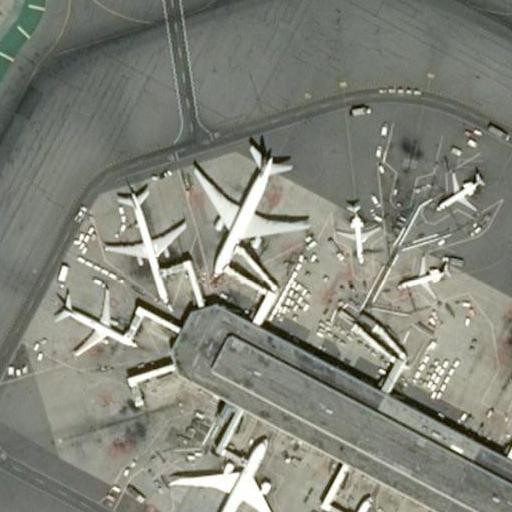Aircraft: (188, 138, 316, 276), (104, 189, 186, 302), (171, 436, 285, 512), (46, 286, 132, 356), (336, 209, 380, 269), (395, 255, 450, 303), (432, 168, 489, 214), (303, 496, 382, 512)
